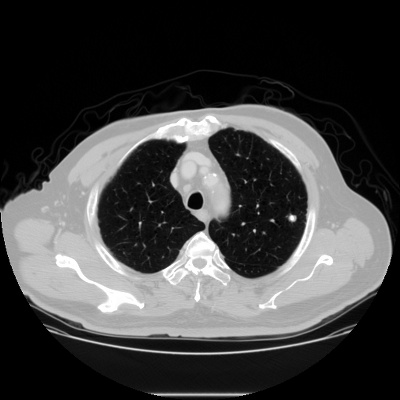PN: (287, 213, 297, 223)
